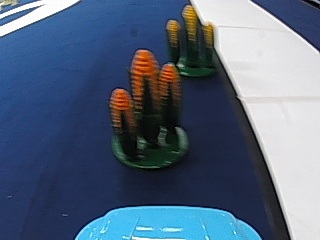corn: (109, 55, 188, 172), (168, 6, 218, 83)
